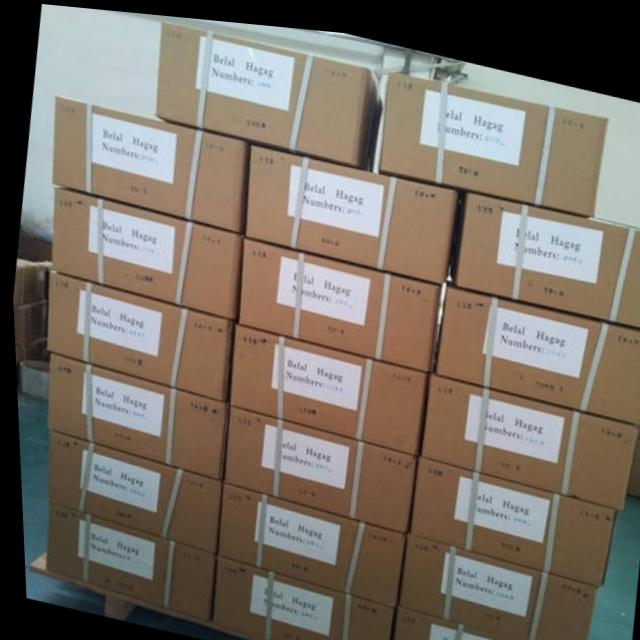box: (155, 18, 382, 163), (378, 66, 608, 205), (414, 365, 635, 500), (243, 139, 457, 276), (432, 276, 640, 415), (235, 230, 437, 365), (50, 94, 250, 229), (225, 318, 428, 449), (403, 449, 612, 576), (217, 401, 415, 528), (453, 184, 640, 316), (50, 187, 242, 315), (43, 269, 233, 398), (211, 476, 403, 601), (44, 351, 226, 476), (391, 528, 593, 640), (42, 425, 217, 552), (40, 501, 211, 618), (205, 552, 390, 640), (386, 601, 543, 640), (11, 294, 45, 346), (10, 256, 43, 305), (12, 335, 44, 377)
